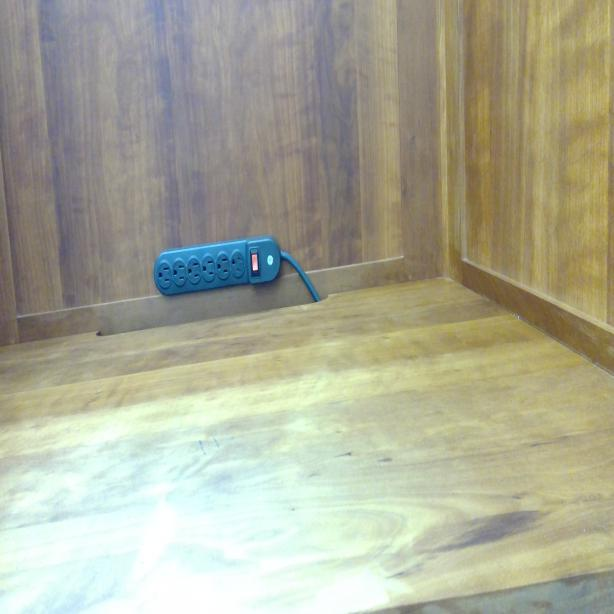typeb: (231, 252, 245, 276), (172, 261, 187, 283), (202, 258, 215, 282), (187, 260, 200, 282), (217, 258, 231, 278), (158, 265, 170, 287)
